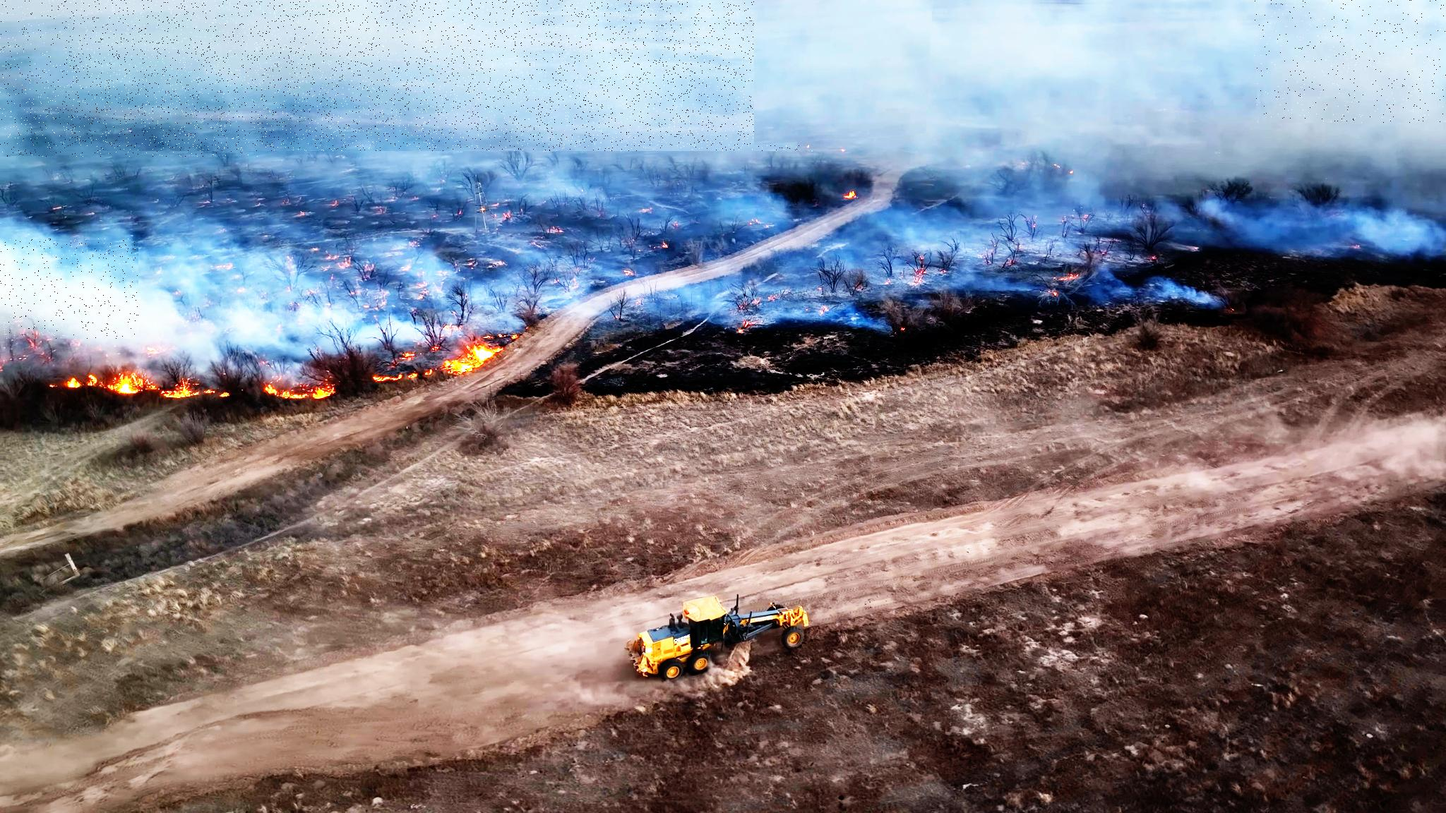smoke: (66, 0, 800, 151), (0, 0, 258, 157), (754, 0, 933, 145), (1254, 0, 1446, 123), (0, 239, 138, 339)
